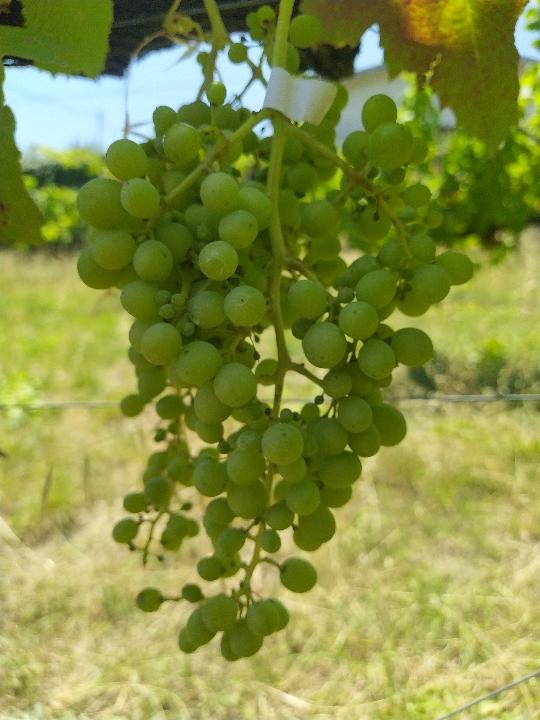grape: (72, 80, 481, 668)
